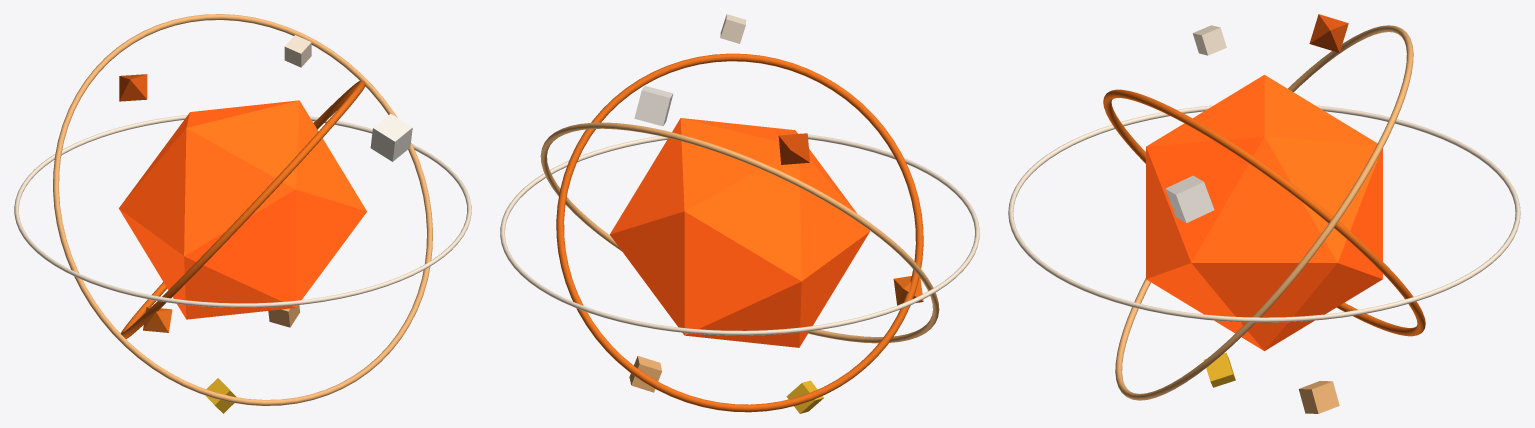
The model's file is academic-knowledge-core.glb.
3 views of the same model, side by side, from view 1: azimuth 30°, elevation 25°; view 2: azimuth 150°, elevation 25°; view 3: azimuth 270°, elevation 25° (orthographic). The views are drawn at different scales.
Parts seen in each view (by area): view 1: PrismCore, OrbitalRingSecondary, OrbitalRingHorizon, OrbitalRingPrimary, ScheduleNode_1, ScheduleNode_4, ScheduleNode_5, ScheduleNode_2, ScheduleNode_3, ScheduleNode_6; view 2: PrismCore, OrbitalRingPrimary, OrbitalRingHorizon, OrbitalRingSecondary, ScheduleNode_1, ScheduleNode_4, ScheduleNode_3, ScheduleNode_5, ScheduleNode_6, ScheduleNode_2; view 3: PrismCore, OrbitalRingHorizon, OrbitalRingSecondary, OrbitalRingPrimary, ScheduleNode_1, ScheduleNode_3, ScheduleNode_4, ScheduleNode_5, ScheduleNode_6.
Boxes of the visible parts, left/top/right/bottom form: PrismCore: left=119, top=100, right=366, bottom=319; OrbitalRingSecondary: left=53, top=14, right=432, bottom=405; OrbitalRingHorizon: left=14, top=115, right=471, bottom=307; OrbitalRingPrimary: left=121, top=80, right=365, bottom=338; ScheduleNode_1: left=370, top=113, right=412, bottom=161; ScheduleNode_4: left=119, top=74, right=147, bottom=101; ScheduleNode_5: left=284, top=35, right=311, bottom=67; ScheduleNode_2: left=143, top=307, right=172, bottom=332; ScheduleNode_3: left=268, top=305, right=299, bottom=327; ScheduleNode_6: left=205, top=378, right=236, bottom=413; PrismCore: left=610, top=118, right=870, bottom=347; OrbitalRingPrimary: left=556, top=53, right=923, bottom=412; OrbitalRingHorizon: left=500, top=133, right=979, bottom=335; OrbitalRingSecondary: left=540, top=122, right=939, bottom=343; ScheduleNode_1: left=634, top=86, right=673, bottom=126; ScheduleNode_4: left=778, top=133, right=809, bottom=164; ScheduleNode_3: left=629, top=356, right=661, bottom=392; ScheduleNode_5: left=720, top=14, right=746, bottom=43; ScheduleNode_6: left=786, top=380, right=823, bottom=413; ScheduleNode_2: left=893, top=276, right=923, bottom=305; PrismCore: left=1146, top=75, right=1382, bottom=350; OrbitalRingHorizon: left=1008, top=105, right=1520, bottom=322; OrbitalRingSecondary: left=1115, top=25, right=1413, bottom=400; OrbitalRingPrimary: left=1103, top=89, right=1425, bottom=336; ScheduleNode_1: left=1165, top=175, right=1214, bottom=222; ScheduleNode_3: left=1298, top=381, right=1339, bottom=413; ScheduleNode_4: left=1309, top=14, right=1348, bottom=52; ScheduleNode_5: left=1192, top=25, right=1226, bottom=55; ScheduleNode_6: left=1203, top=352, right=1235, bottom=387.
Bounding box in the file's own units: 5.15 × 4.45 × 5.15.
